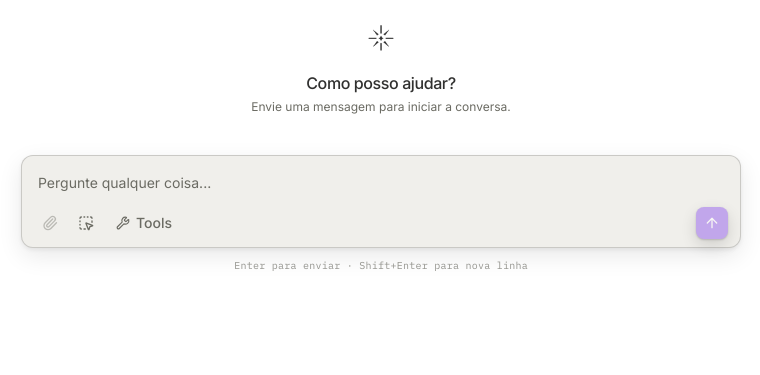
Test: IslandChat › T4.2 click Copiar escreve o content e vira Copiado
Type "oi" into the text box with placeholder "Pergunte qualquer coisa..." at (381, 183), box [30,164,732,203]
Then press Enter
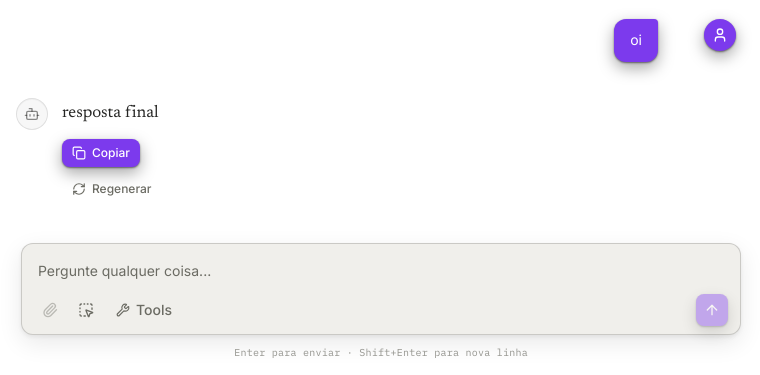
Click the button "Copiar" at (101, 153), box [62,139,140,167]
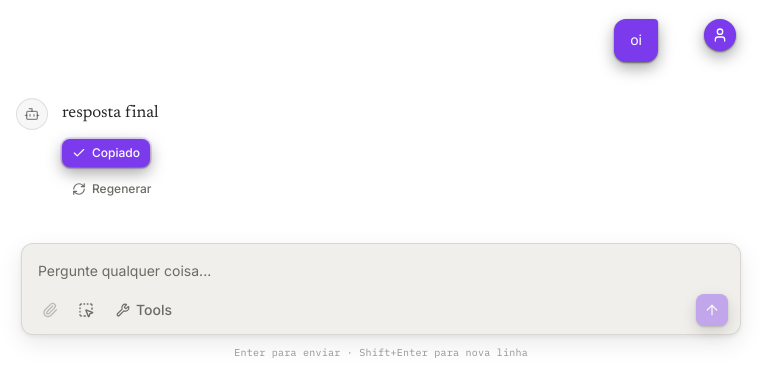
Expected: the button "Copiado" is shown, [62,139,150,167]
